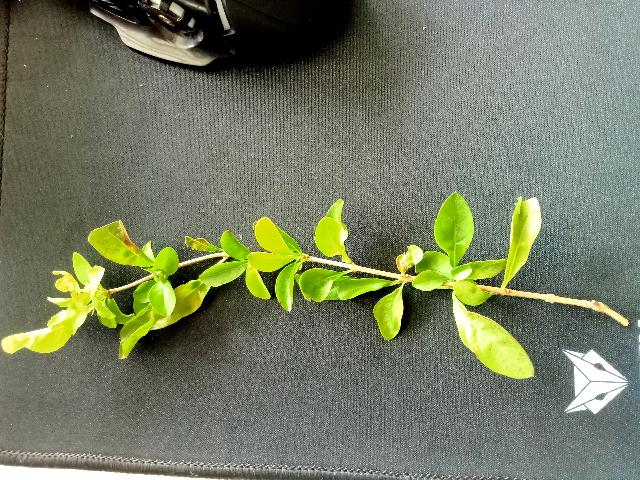pylokantus: (2, 190, 630, 380)
